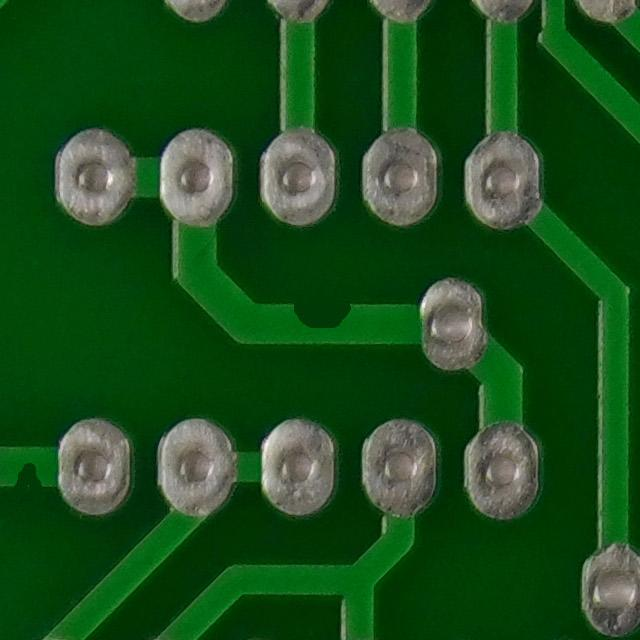mouse_bite: (277, 284, 364, 356)
